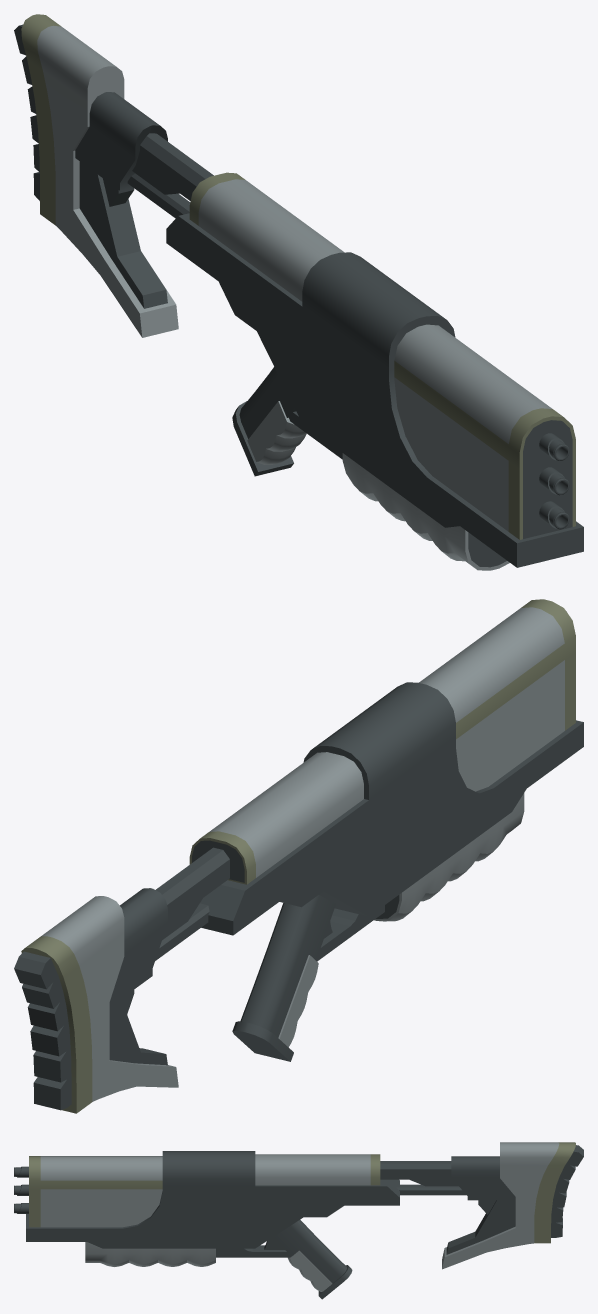
Rendered from burst.glb.
The picture shows the model from 3 angles, top to bottom: view 1: azimuth 30°, elevation 25°; view 2: azimuth 150°, elevation 25°; view 3: azimuth 270°, elevation 25°; orthographic projection. The views are drawn at different scales.
Visible parts, largest first — view 1: burst; view 2: burst; view 3: burst.
Part boxes in pixels (x1,y1,x2,y2): burst: [14, 14, 583, 570]; burst: [14, 599, 583, 1113]; burst: [14, 1142, 583, 1299].
Size of the model in its own units: 0.065 by 0.263 by 0.9.
